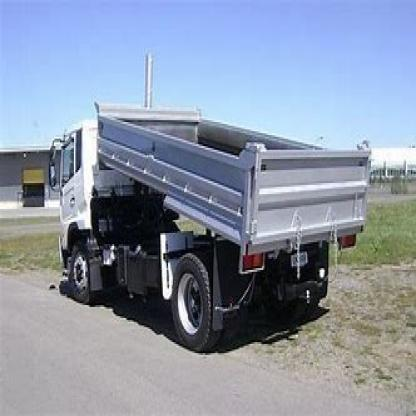dump_truck: (22, 70, 384, 381)
